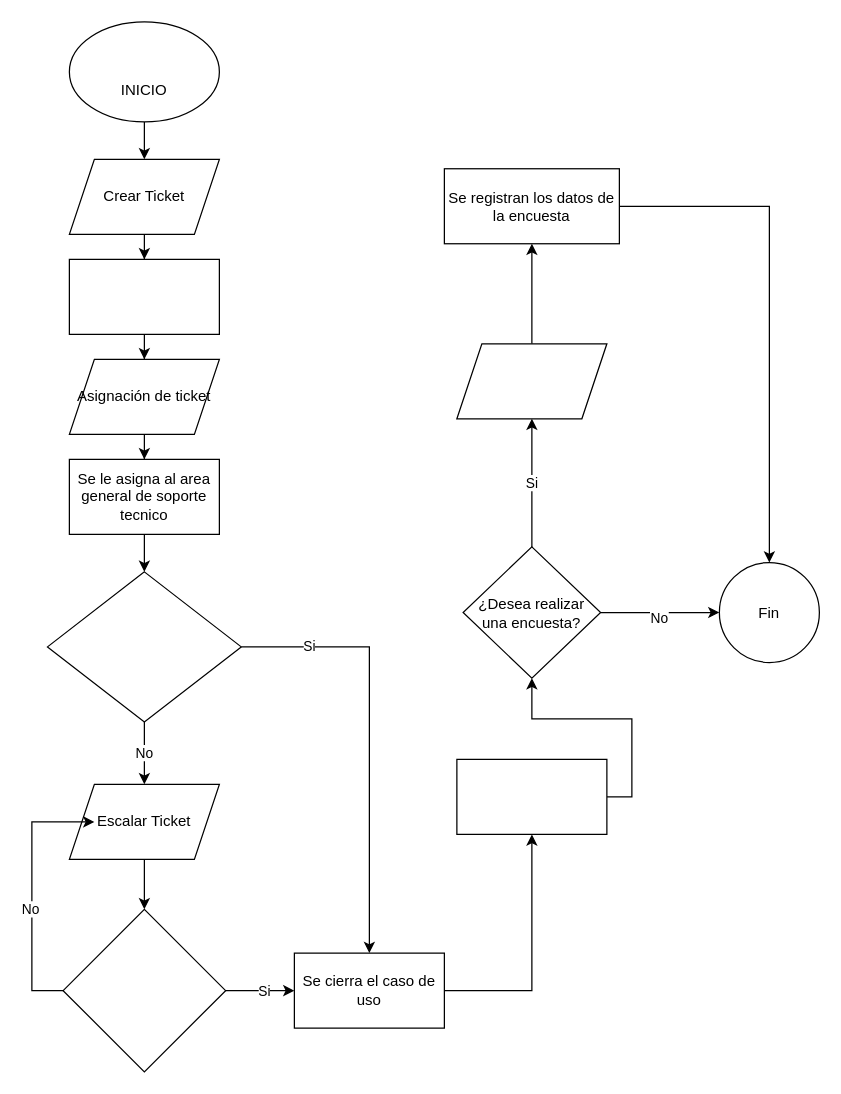
Some shapes in this 841 by 1094 pixel diagram are drawn without their labels. The shapes that lost their labels are listed below. From the top down, each one's centre as x and y in pixels, then its label:
point 143,296: Se crea el ticket con la solicitud del "solicitante"
point 531,380: Se le comparte la Encuesta por medio de correo electronico
point 143,646: ¿El problema fue solventado?
point 531,796: Se le consulta al solicitante si desea realizar una encuesta
point 144,990: ¿El problema se solvelto?
